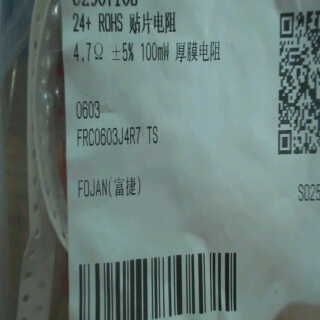4.7R: (74, 39, 103, 66)
